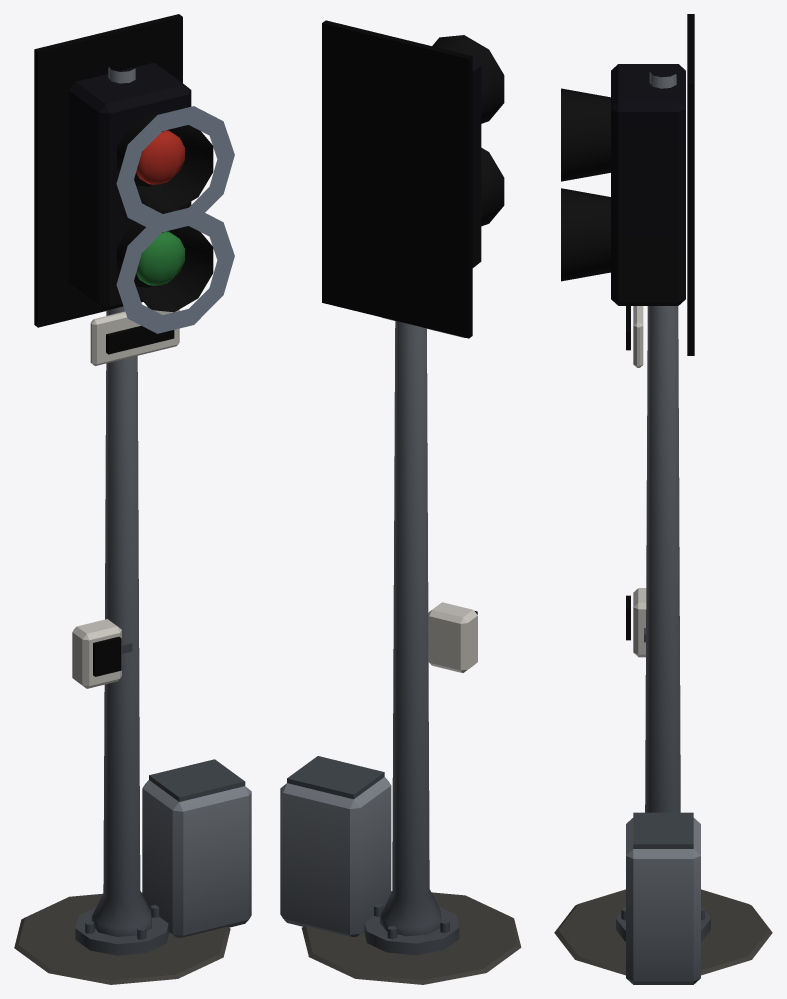
The model's file is colour-light-signal.glb.
3 renders of one model, left to right at view 1: azimuth 30°, elevation 25°; view 2: azimuth 150°, elevation 25°; view 3: azimuth 270°, elevation 25°, orthographic. The views are drawn at different scales.
Visible parts, largest first — view 1: colour_light_signal; view 2: colour_light_signal; view 3: colour_light_signal.
Boxes of the visible parts, x1,y1,x2,y2 form: colour_light_signal: (14, 14, 251, 984); colour_light_signal: (280, 20, 521, 984); colour_light_signal: (554, 14, 772, 984).
Bounding box in the file's own units: 0.9353 × 3.9 × 0.8736.
